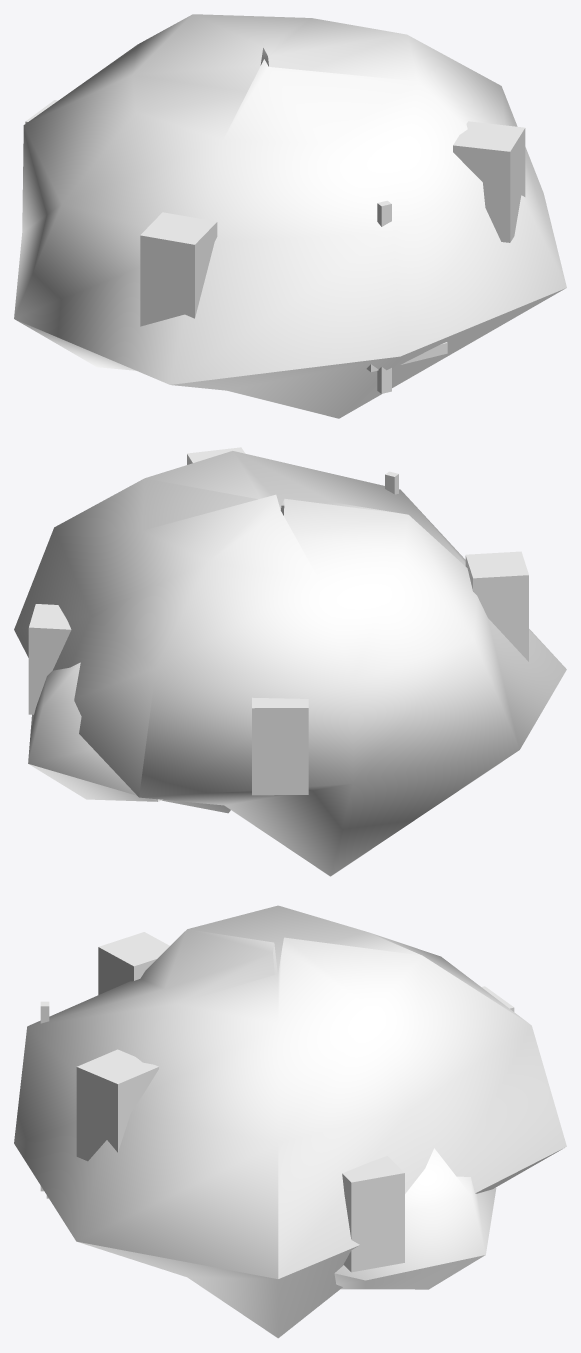
File: ore_rock.glb
3 renders of one model, top to bottom at view 1: azimuth 30°, elevation 25°; view 2: azimuth 150°, elevation 25°; view 3: azimuth 270°, elevation 25°, orthographic. The views are drawn at different scales.
Visible parts, largest first — view 1: OreRock; view 2: OreRock; view 3: OreRock.
Part boxes in pixels (box(x1,y1,x2,y2)): OreRock: box(14, 14, 566, 418); OreRock: box(14, 447, 566, 876); OreRock: box(14, 905, 566, 1338).
Size of the model in its own units: 2.07 by 1.24 by 1.9.
1 material, 1 textured.
